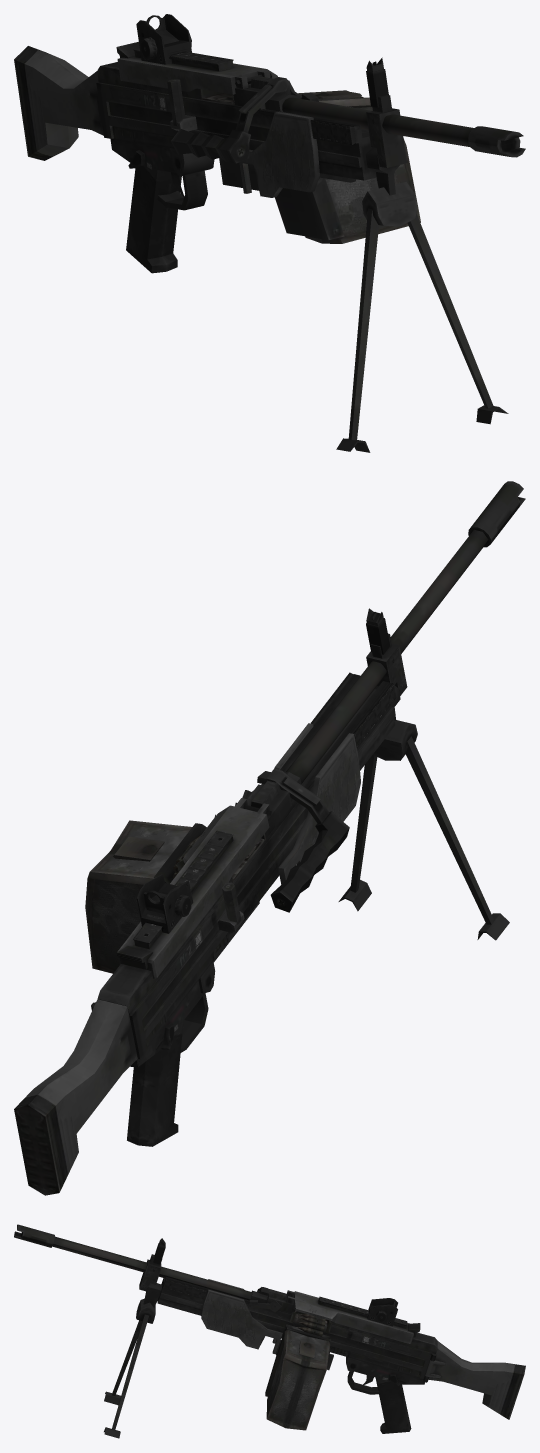
3 renders of one model, top to bottom at view 1: azimuth 30°, elevation 25°; view 2: azimuth 150°, elevation 25°; view 3: azimuth 270°, elevation 25°, orthographic. The views are drawn at different scales.
Visible parts, largest first — view 1: 4f854cf8.obj_Material #181_0, 4f763d90.obj_Material #180_0, 4d2b6ef0.obj_Material #172_0; view 2: 4f854cf8.obj_Material #181_0, 4f763d90.obj_Material #180_0, 4d2b6ef0.obj_Material #172_0; view 3: 4f854cf8.obj_Material #181_0, 4f763d90.obj_Material #180_0, 4d2b6ef0.obj_Material #172_0.
Part boxes in pixels (x1,y1,x2,y2): 4f854cf8.obj_Material #181_0: [14, 41, 525, 452]; 4f763d90.obj_Material #180_0: [275, 90, 420, 243]; 4d2b6ef0.obj_Material #172_0: [136, 14, 388, 107]; 4f854cf8.obj_Material #181_0: [14, 481, 525, 1195]; 4f763d90.obj_Material #180_0: [85, 820, 206, 973]; 4d2b6ef0.obj_Material #172_0: [136, 608, 389, 933]; 4f854cf8.obj_Material #181_0: [14, 1224, 525, 1438]; 4f763d90.obj_Material #180_0: [265, 1324, 330, 1430]; 4d2b6ef0.obj_Material #172_0: [153, 1238, 397, 1326].
Size of the model in its own units: 0.2804 by 0.4568 by 1.03.
3 materials, 3 textured.
